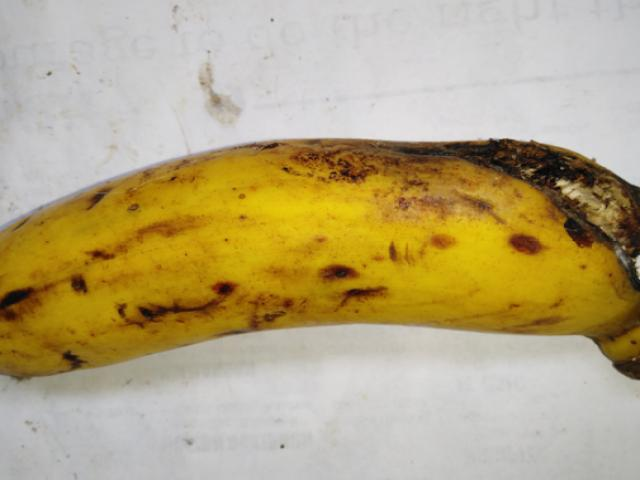ripe: (0, 97, 639, 392)
rotten: (440, 110, 639, 276)
